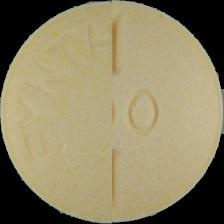0074-6624: (0, 0, 224, 224)
